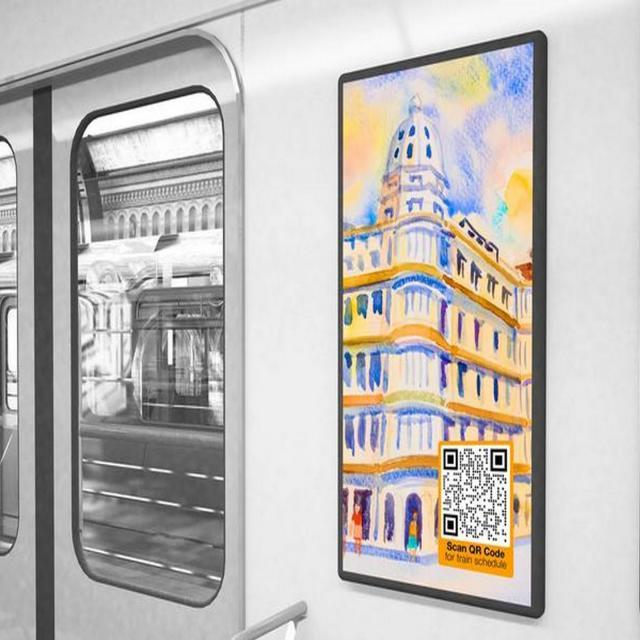qr_code: (443, 448, 508, 544)
